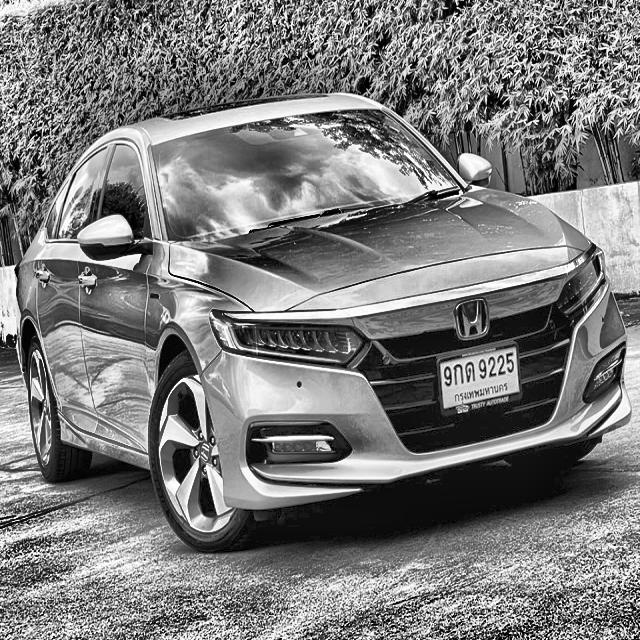license-plate: (423, 336, 531, 421)
